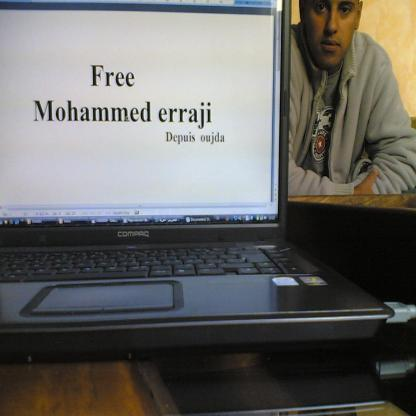board: (0, 0, 394, 358)
